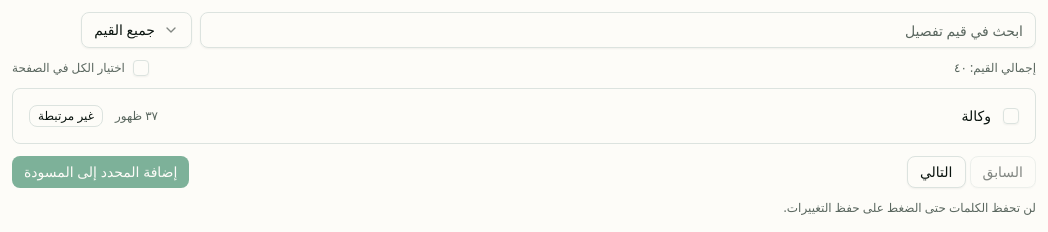
ImportedDetailPicker draft mode › keeps selections when paging
Check: the text "وكالة" is shown, box [962,106,991,125]
Click the checkbox next to "وكالة". click: [1011, 116]
box: [1003,108,1019,124]
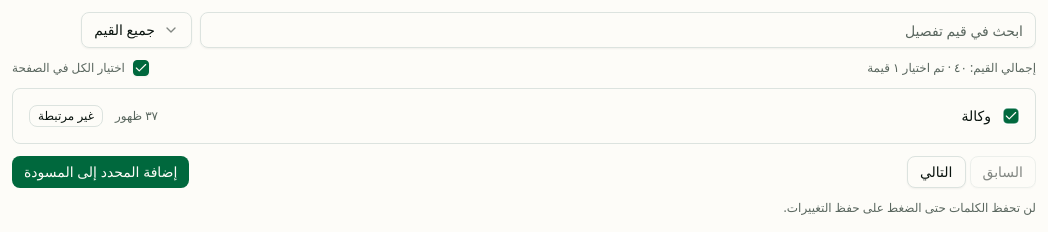
Check: the text "إجمالي القيم: ٤٠ · تم اختيار ١ قيمة" is shown, box [867,60,1036,76]
Click the button "التالي". click: [936, 172]
box: [907,156,966,188]
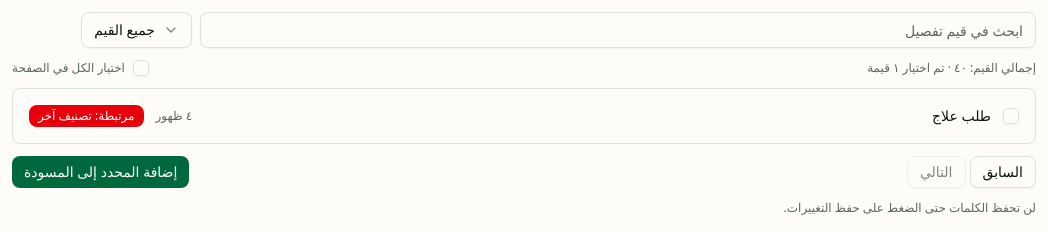
Check: the text "إجمالي القيم: ٤٠ · تم اختيار ١ قيمة" is shown, box [867,60,1036,76]
Check: the text "طلب علاج" is shown, box [932,106,991,125]
